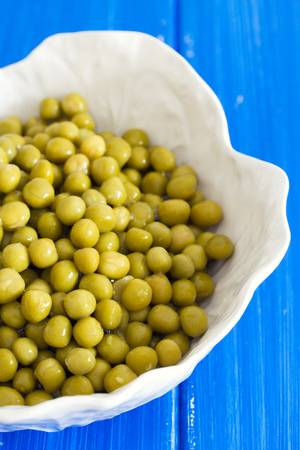boiled peas: (1, 96, 215, 406)
